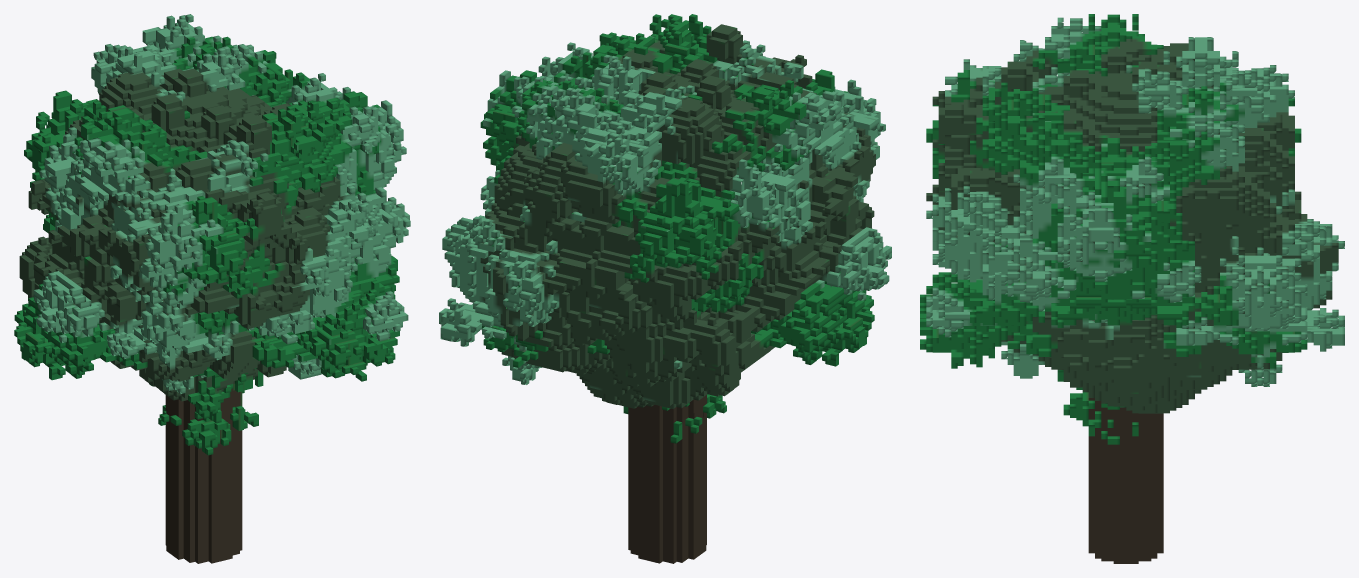
The model's file is Arbol_01.obj.
3 renders of one model, left to right at view 1: azimuth 30°, elevation 25°; view 2: azimuth 150°, elevation 25°; view 3: azimuth 270°, elevation 25°, orthographic. The views are drawn at different scales.
Parts seen in each view (by area): view 1: Content; view 2: Content; view 3: Content.
Part boxes in pixels (x1,y1,x2,y2): Content: (14, 14, 410, 563); Content: (439, 14, 891, 563); Content: (920, 14, 1344, 563).
Size of the model in its own units: 5.11 by 6.26 by 4.9.
